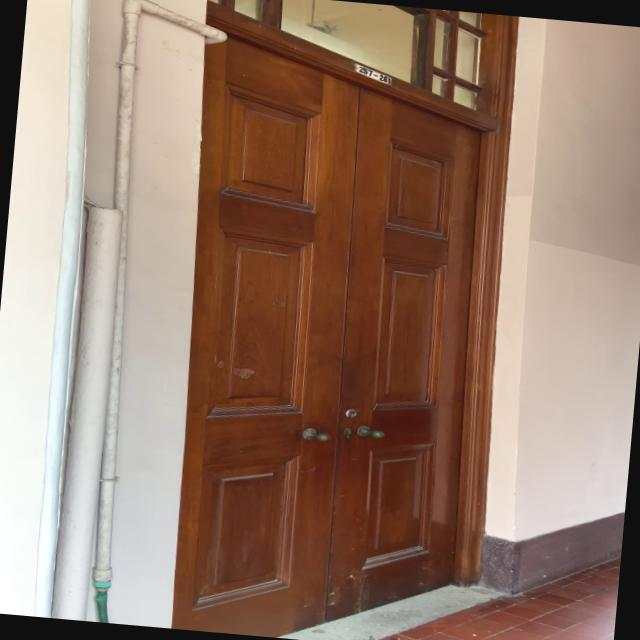room257: (351, 61, 394, 88)
room257door: (168, 1, 497, 637)
